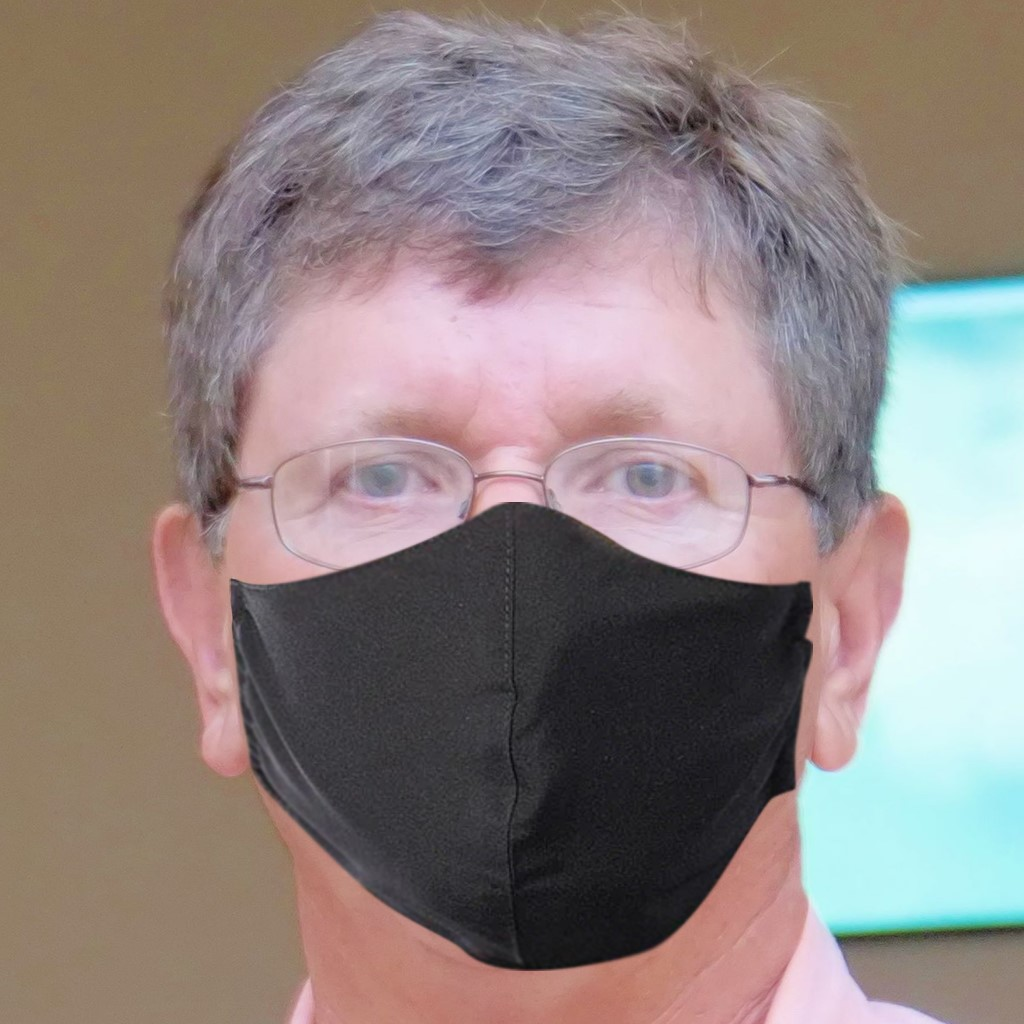con_mascara: (222, 218, 815, 932)
